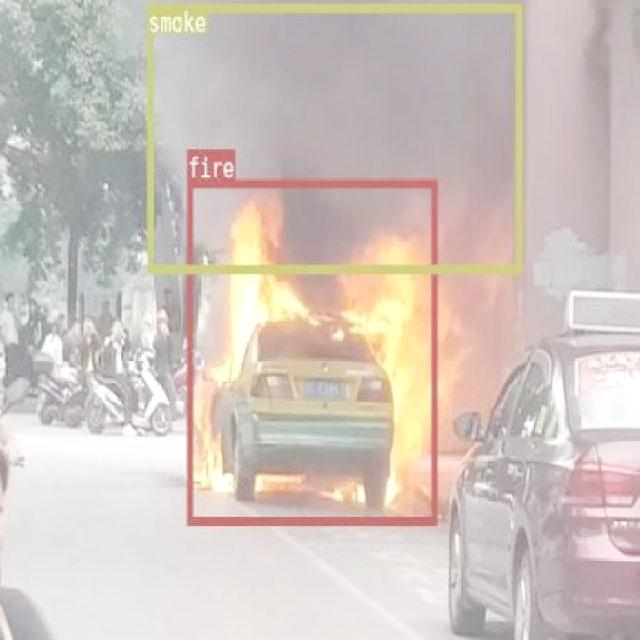fire: (186, 178, 437, 524)
smoke: (147, 3, 521, 272)
